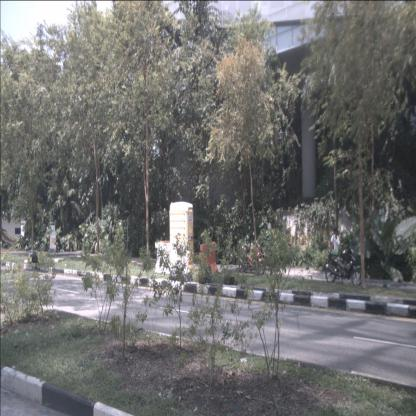human-pedestrian-adult: (330, 226, 340, 279), (1, 239, 7, 250)
movable_object-barrier: (155, 241, 176, 273), (200, 242, 218, 274)
vehicle-motorcycle: (325, 244, 362, 286), (238, 242, 266, 275)
